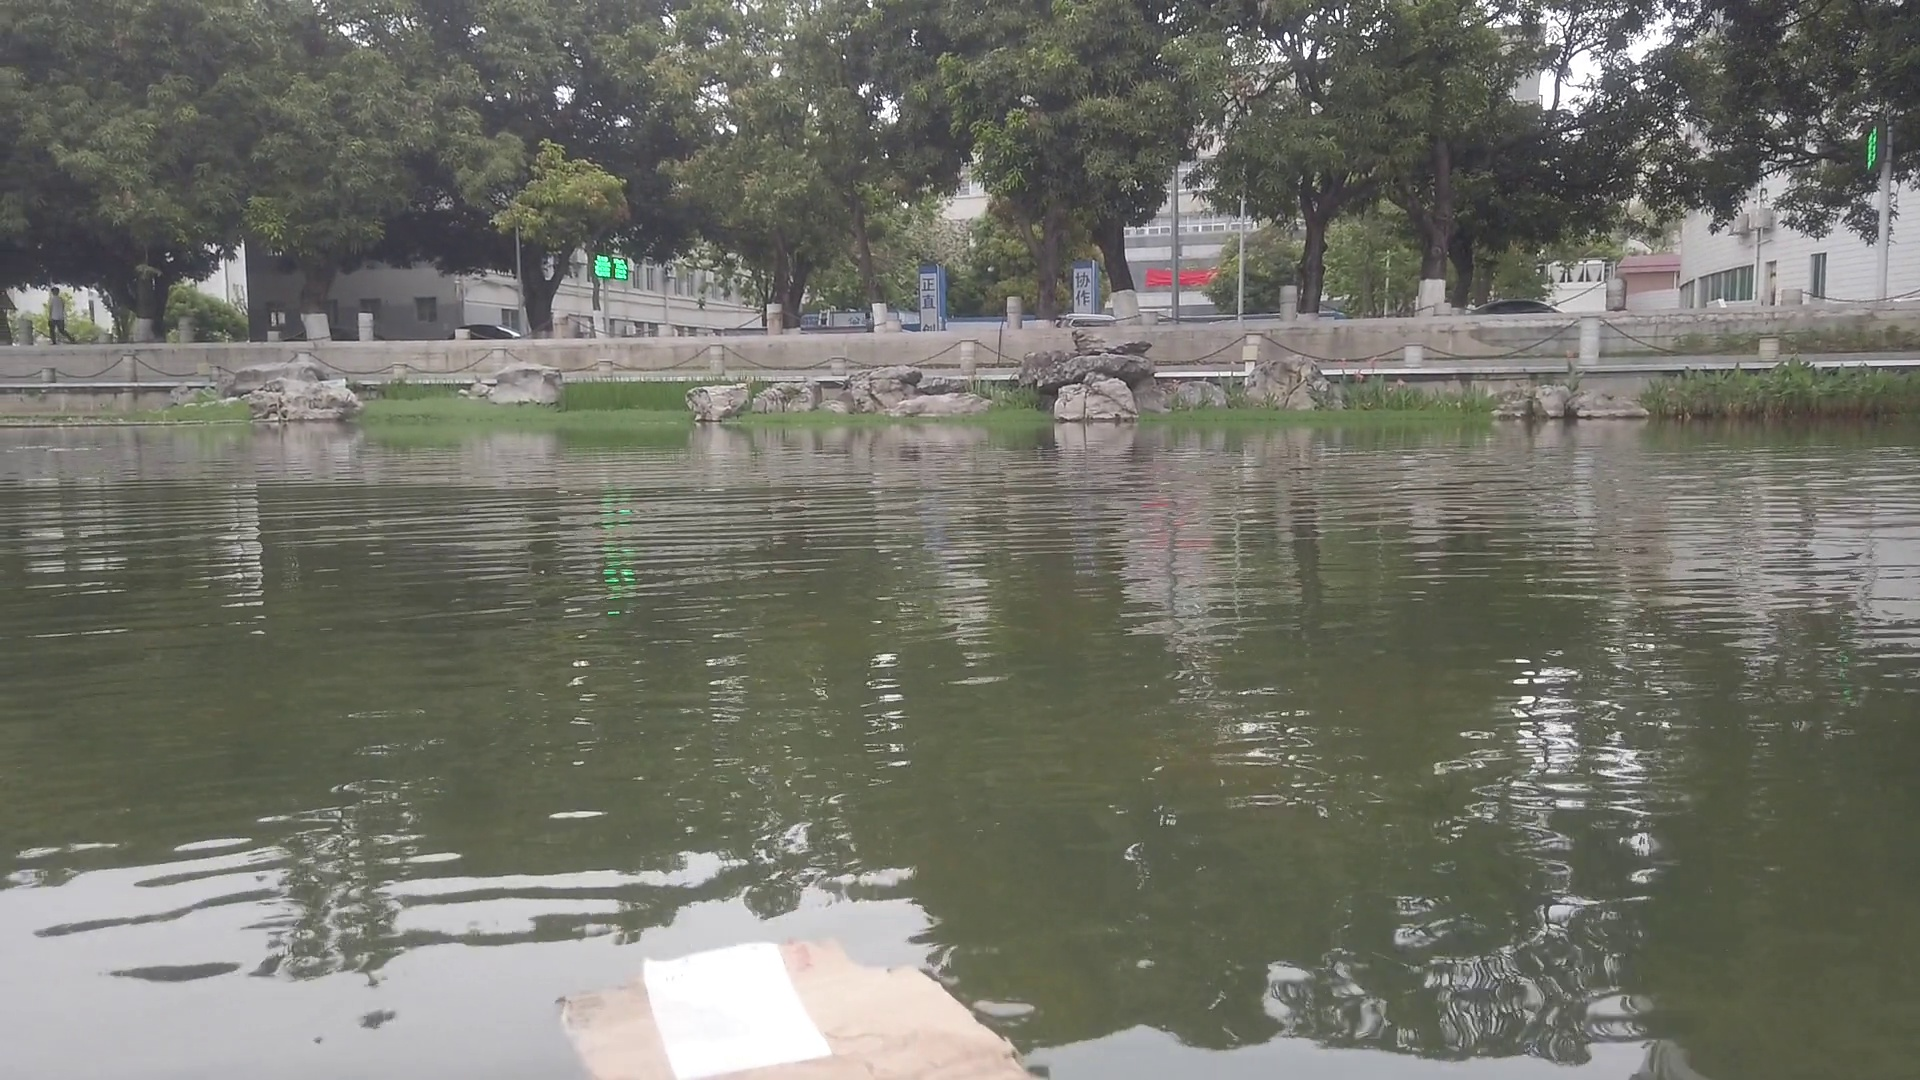paper: (567, 938, 1026, 1077)
